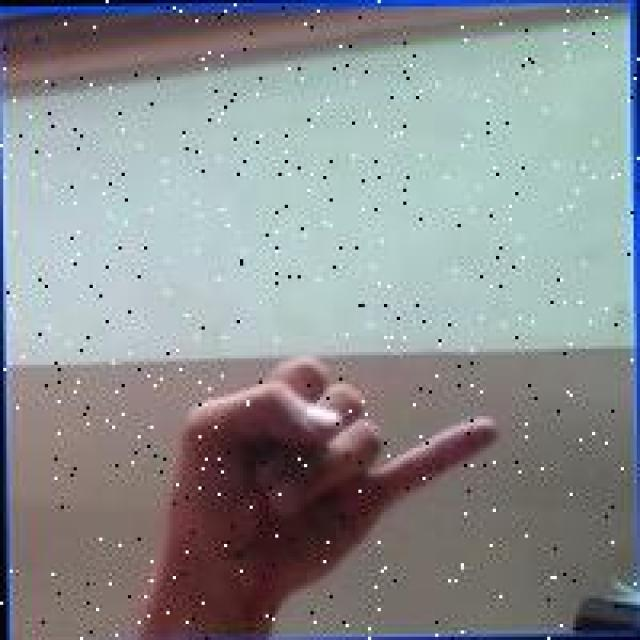J: (154, 344, 515, 590)
